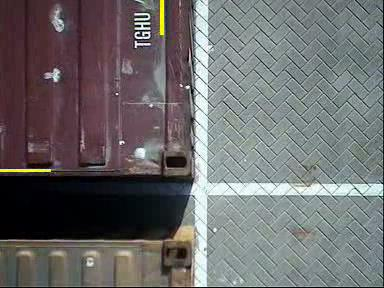groundmarker_2: (205, 102, 257, 185)
